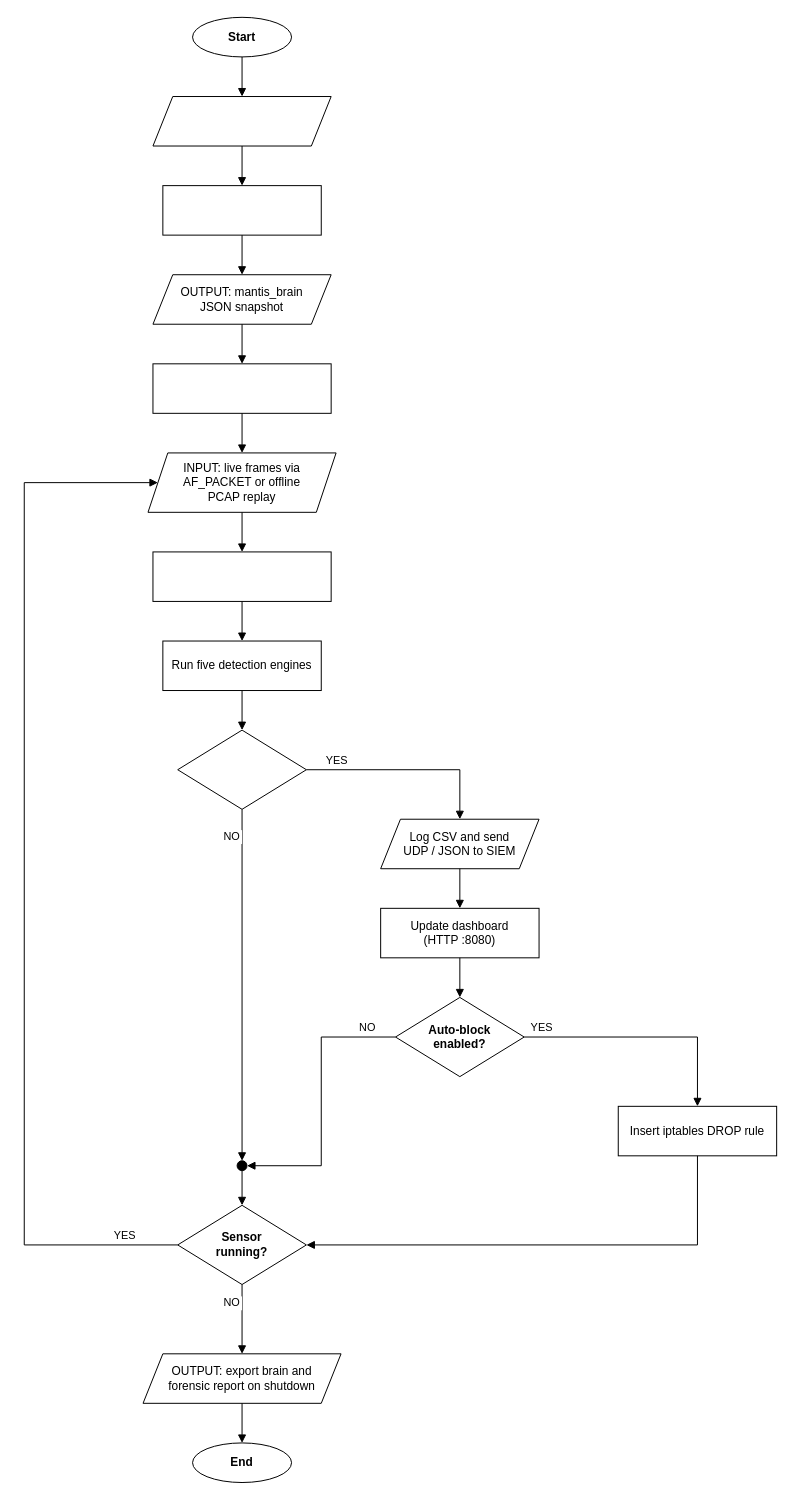
Image size: 794x1500. Some labels were removed from this diagram. Each missing label, with the centre of its shape:
"Alert raised?" goes at (241,769).
"INPUT: labelled training dataset (CSV / JSON)" goes at (241,121).
"Load newest compatible brain state on startup" goes at (241,388).
"Parse Ethernet / IPv4 / TCP / UDP fields" goes at (241,576).
"Train applicable engines" goes at (241,210).
